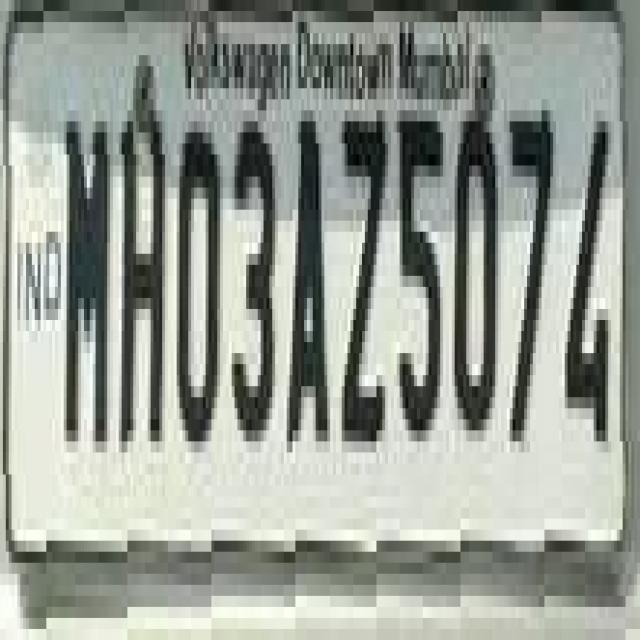license_plate: (17, 0, 640, 585)
